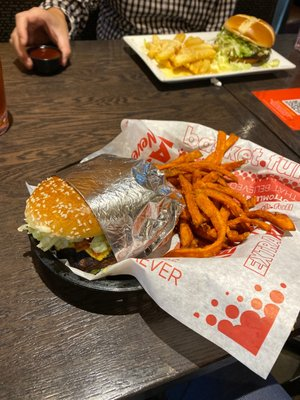soup: (21, 155, 184, 277), (20, 176, 116, 274)
